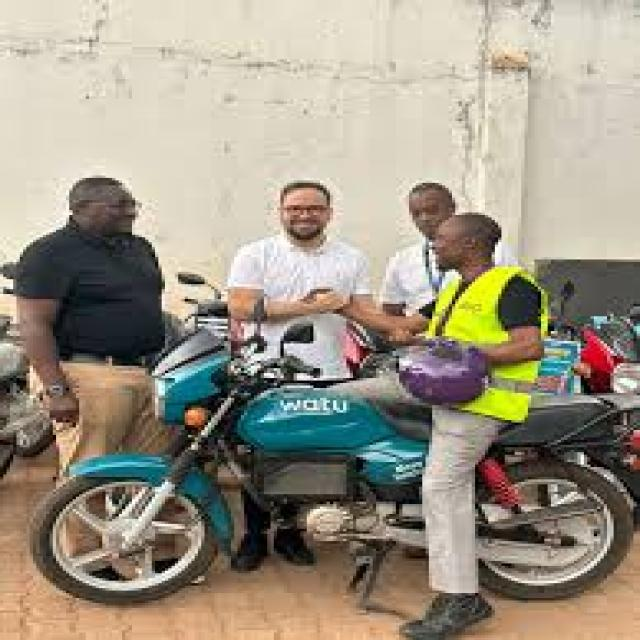bodaboda: (15, 244, 640, 640)
